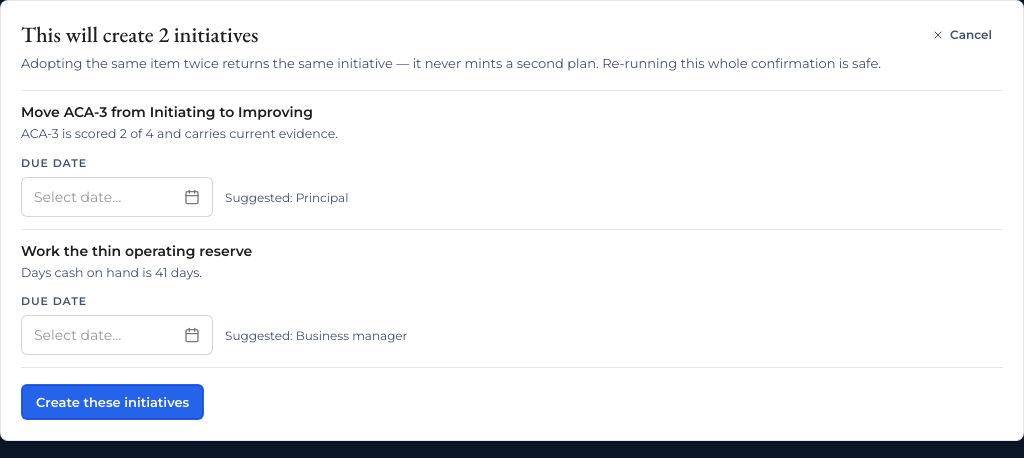
Test: SPEC-WEB-8 — acceptance 8: a 200 reads "already being worked", never "Created" › a genuine creation (201) is the ONLY thing that says Created
The width and height of the screenshot is (1024, 458).
Click the button "Create these initiatives". click: (113, 402)
box: [21, 384, 204, 420]
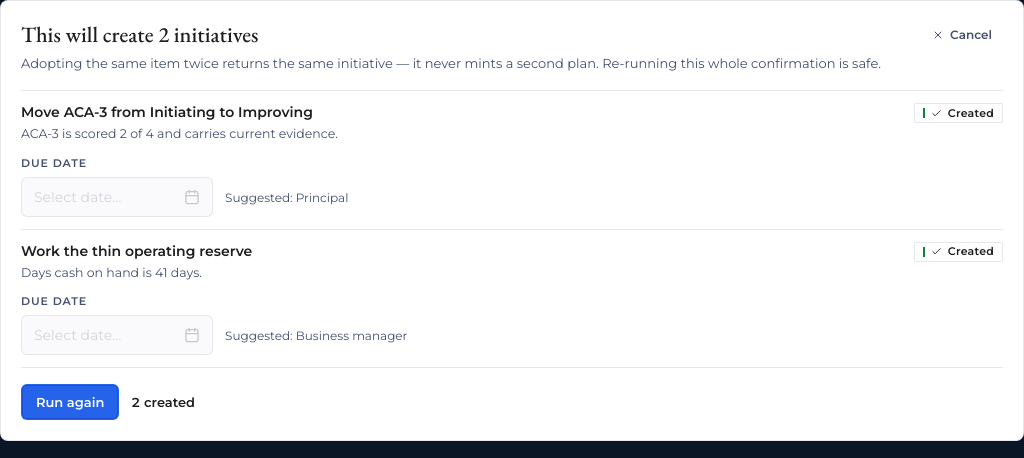
Expected: the number of elements with test id "row-created" is 2, [914, 103, 1003, 123]; [914, 242, 1003, 262]
Expected: the text "Created" is shown, [914, 103, 1003, 123]
